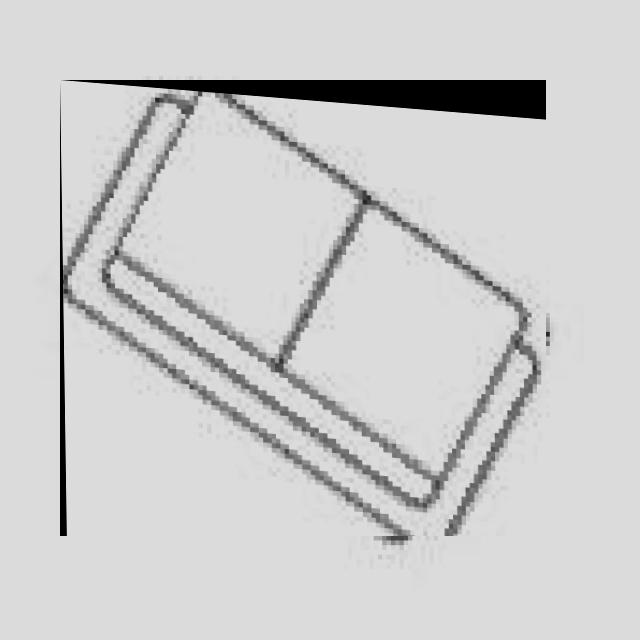sofa: (60, 80, 546, 536)
